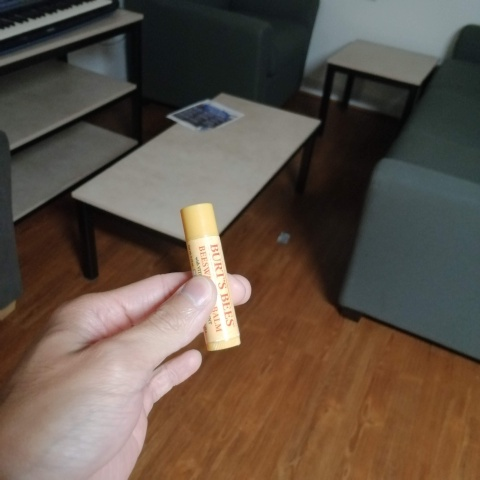chapstick: (178, 202, 244, 355)
